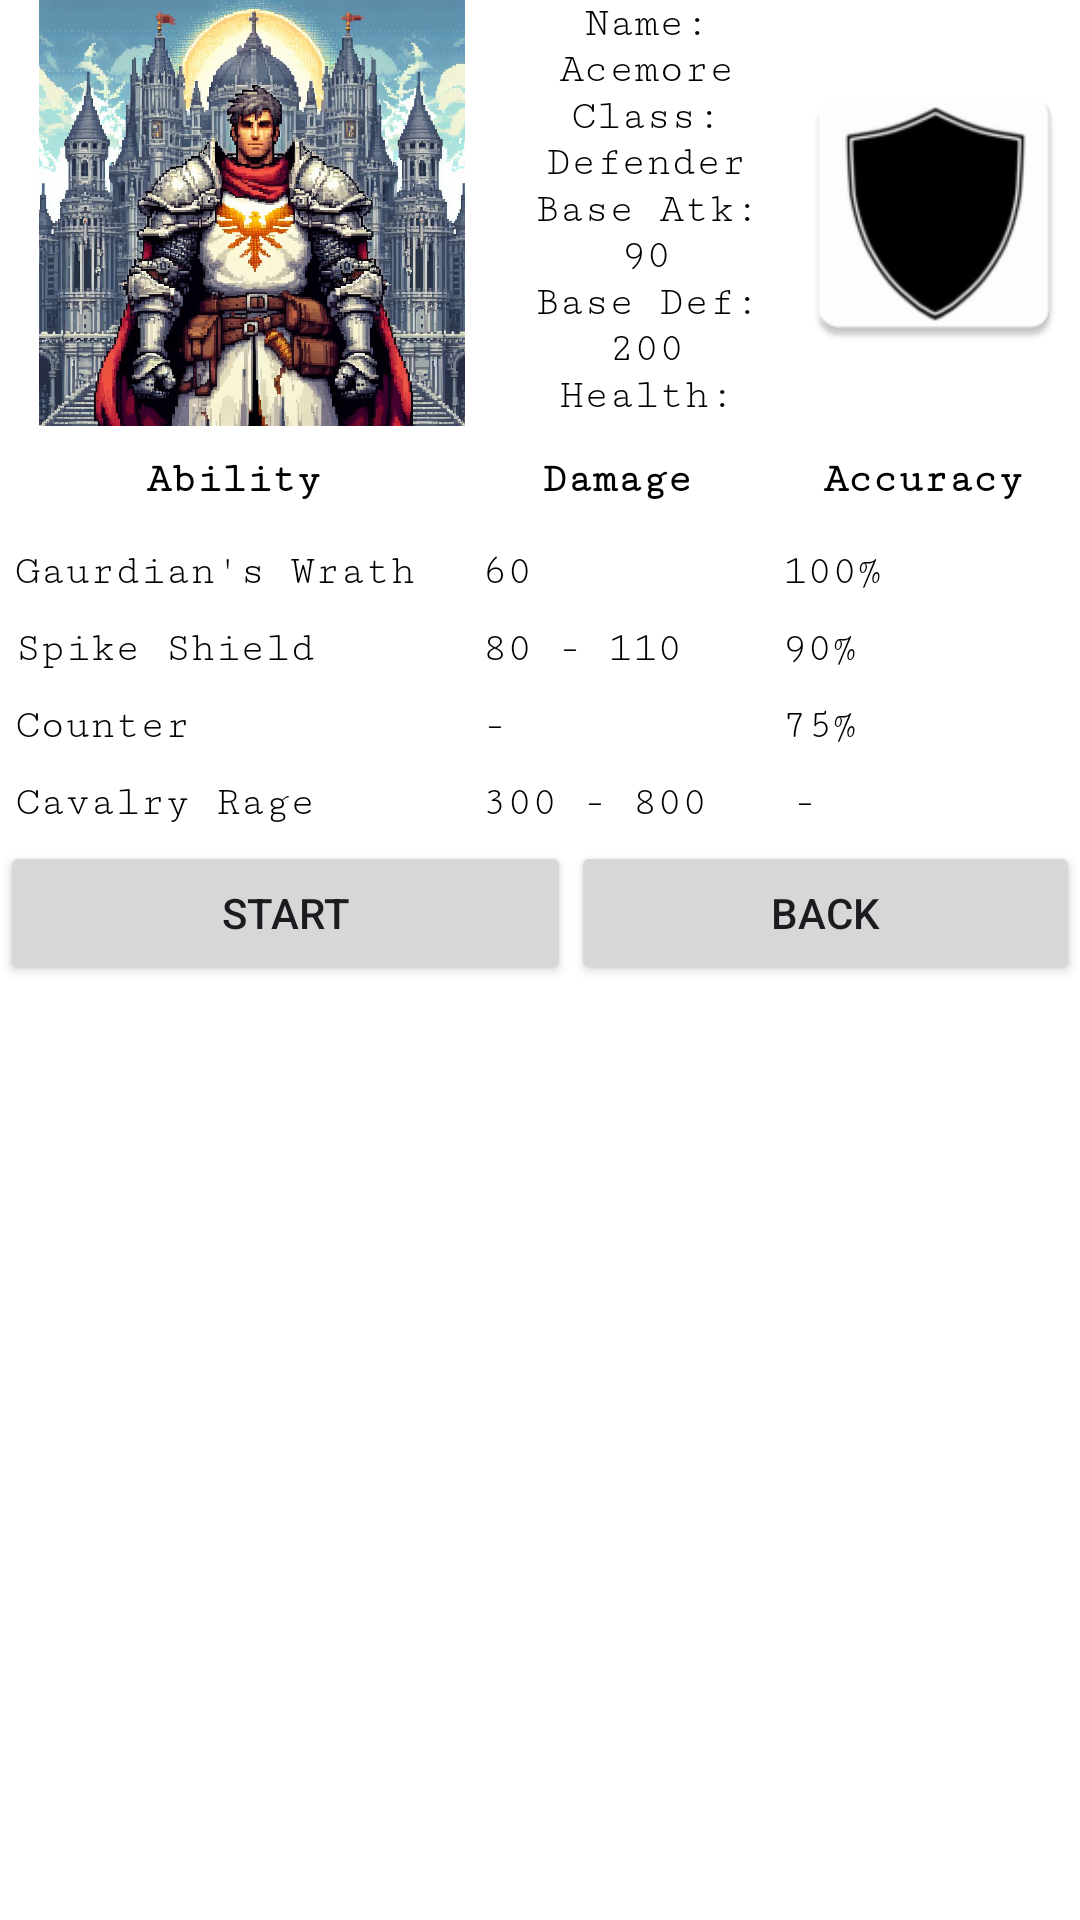

Screen size 1080px x 1920px. Icon name, then its box in pixels as [left=x1, top=y1, right=x2, bottom=y2]:
shield: [left=819, top=107, right=1051, bottom=335]
